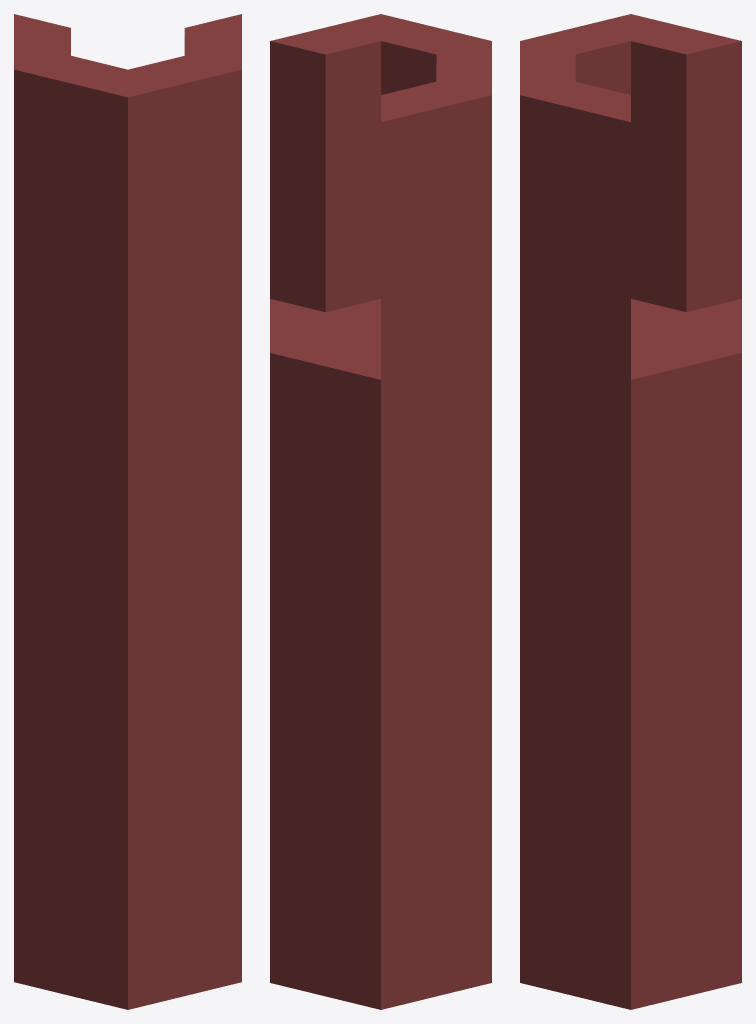
Rendered from Hex_Tall_2.fbx.
3 renders of one model, left to right at view 1: azimuth 30°, elevation 25°; view 2: azimuth 150°, elevation 25°; view 3: azimuth 270°, elevation 25°, orthographic. The views are drawn at different scales.
Visible parts, largest first — view 1: TileHex2; view 2: TileHex2; view 3: TileHex2.
Part boxes in pixels (bbox=[...]): TileHex2: bbox=[14, 14, 241, 1009]; TileHex2: bbox=[270, 14, 491, 1009]; TileHex2: bbox=[520, 14, 741, 1009].
Size of the model in its own units: 118 by 450 by 102.
